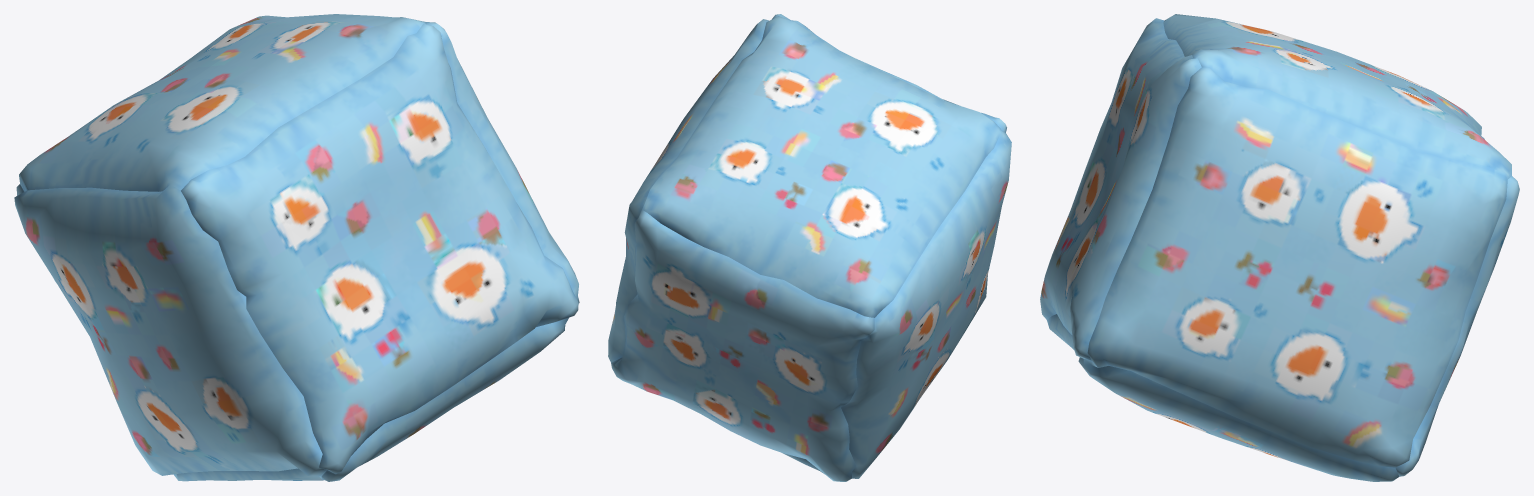
File: GTSandbag.glb
3 renders of one model, left to right at view 1: azimuth 30°, elevation 25°; view 2: azimuth 150°, elevation 25°; view 3: azimuth 270°, elevation 25°, orthographic. The views are drawn at different scales.
Parts seen in each view (by area): view 1: shabao; view 2: shabao; view 3: shabao.
Boxes of the visible parts, x1,y1,x2,y2 form: shabao: [14, 14, 579, 481]; shabao: [608, 14, 1011, 481]; shabao: [1040, 14, 1519, 481].
Size of the model in its own units: 1.5 by 1.74 by 1.65.
1 material, 1 textured.
